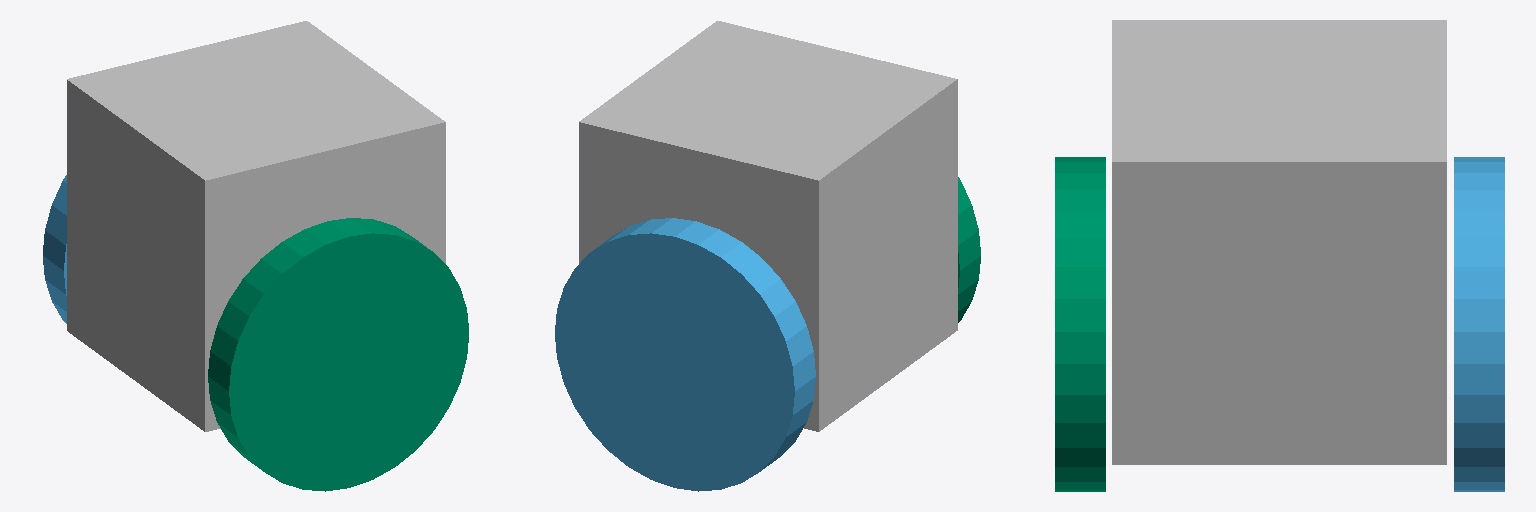
URDF robot description (Differential):
<robot name="Differential" version="1.0">
  <joint name="Wheel.L_link_joint" type="continuous">
    <limit effort="0.00000" velocity="0.00000"/>
    <origin rpy="-1.57080 0.00000 0.00000" xyz="0.00000 1.19278 0.00000"/>
    <parent link="Body_link"/>
    <child link="Wheel.L_link"/>
    <axis xyz="0.00000 1.00000 0.00000"/>
  </joint>
  <joint name="WheelJoint.L" type="continuous">
    <limit effort="0.00000" velocity="0.00000"/>
    <origin rpy="1.57080 0.00000 0.00000" xyz="0.00000 -1.18788 -0.00000"/>
    <parent link="Body_link"/>
    <child link="Wheel.R_link"/>
    <axis xyz="0.00000 1.00000 0.00000"/>
  </joint>
  <link name="Body_link">
    <visual name="Body">
      <material name="Material"/>
      <origin rpy="0.00000 0.00000 0.00000" xyz="0.00000 0.00000 0.00000"/>
      <geometry>
        <mesh filename="../meshes/stl/Cube.stl" scale="1.00000 1.00000 1.00000"/>
      </geometry>
    </visual>
  </link>
  <link name="Wheel.L_link">
    <visual name="Wheel.L">
      <material name="None"/>
      <origin rpy="0.00000 0.00000 0.00000" xyz="0.00000 0.00000 0.00000"/>
      <geometry>
        <cylinder radius="1.00000" length="0.30522"/>
      </geometry>
    </visual>
  </link>
  <link name="Wheel.R_link">
    <visual name="Wheel.R">
      <material name="None"/>
      <origin rpy="-0.00000 0.00000 0.00000" xyz="0.00000 -0.00000 -0.00000"/>
      <geometry>
        <cylinder radius="1.00000" length="0.30522"/>
      </geometry>
    </visual>
  </link>
  <material name="Material">
    <color rgba="0.80000 0.80000 0.80000 1.00000"/>
  </material>
</robot>

--- Render facts (derived) ---
3 views of the same robot in one strip: view 1: azimuth 30°, elevation 25°; view 2: azimuth 150°, elevation 25°; view 3: azimuth 270°, elevation 25° (orthographic).
Robot: Differential — 3 links, 2 joints (2 continuous); root link Body_link; default pose: all joints at 0.
Links seen in each view (by area): view 1: Body_link, Wheel.R_link, Wheel.L_link; view 2: Body_link, Wheel.L_link, Wheel.R_link; view 3: Body_link, Wheel.L_link, Wheel.R_link.
Boxes of the visible links, x1,y1,x2,y2 form: Body_link: (67,21,445,431); Wheel.R_link: (208,218,468,491); Wheel.L_link: (43,175,66,323); Body_link: (579,21,957,431); Wheel.L_link: (555,218,815,491); Wheel.R_link: (958,177,980,322); Body_link: (1112,20,1446,464); Wheel.L_link: (1454,157,1504,491); Wheel.R_link: (1055,157,1105,491).
Size in the robot's own frame: 2 by 2.69 by 2.54 metres.
1 mesh visuals loaded from 1 distinct referenced files (1 binary STL).